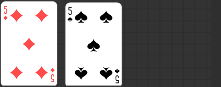5C: (66, 5, 73, 23)
